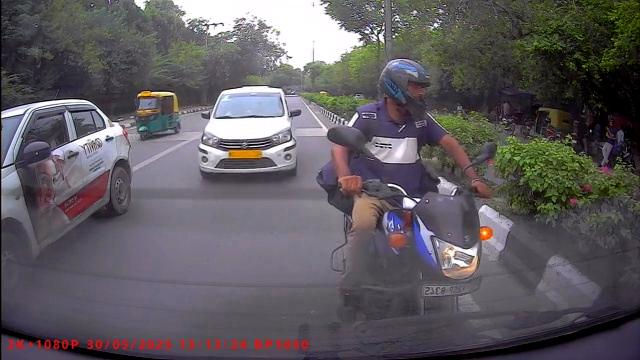motorcycle_with_helmet: (317, 55, 499, 334)
